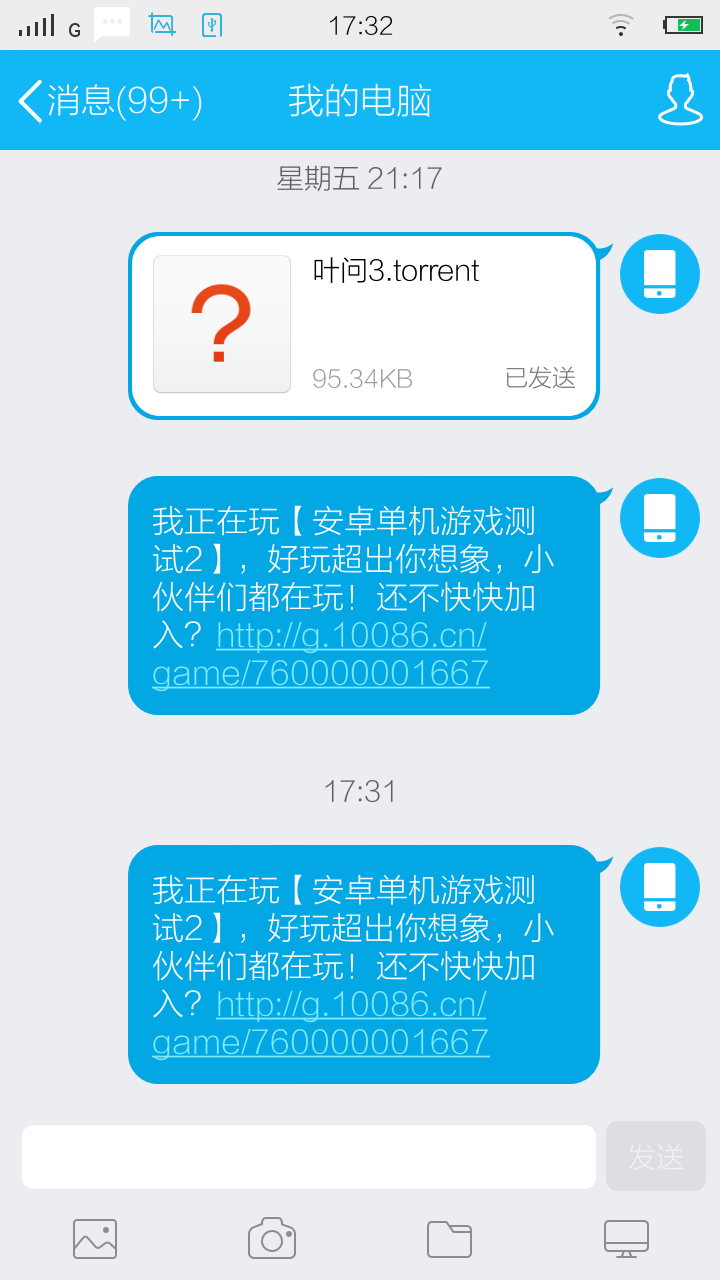imgbutton: (641, 56, 712, 141), (408, 1206, 487, 1272), (585, 1207, 668, 1269), (235, 1210, 309, 1267), (58, 1211, 132, 1267)
textview: (129, 468, 601, 722), (10, 1119, 606, 1200)
